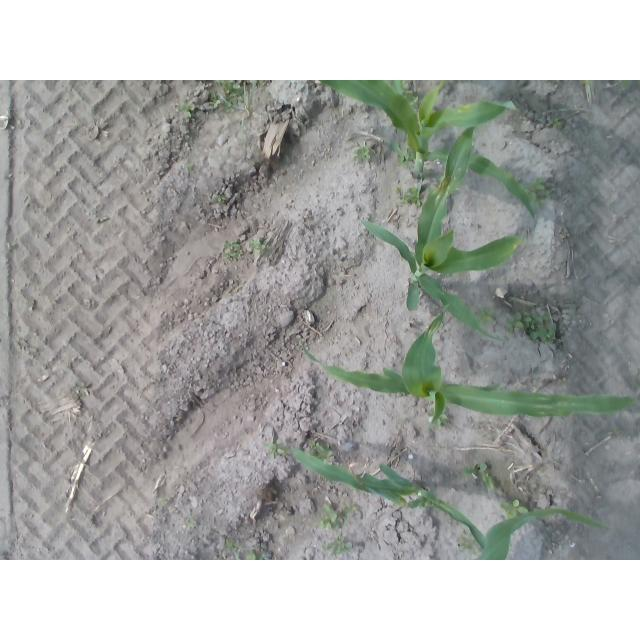Maize: (301, 294, 640, 428), (292, 442, 615, 558), (360, 128, 529, 341), (318, 82, 534, 219)
Weeds: (506, 303, 568, 351), (212, 82, 248, 119), (318, 500, 355, 532), (462, 462, 503, 490), (349, 142, 381, 167), (319, 535, 353, 558), (308, 437, 337, 459), (396, 182, 421, 203), (503, 493, 524, 516), (224, 541, 247, 560), (224, 242, 245, 262), (266, 440, 286, 461), (392, 142, 409, 166), (177, 101, 198, 120), (249, 238, 268, 258), (155, 495, 171, 511), (184, 518, 201, 532), (210, 192, 228, 205), (186, 160, 194, 173), (245, 553, 259, 559)
